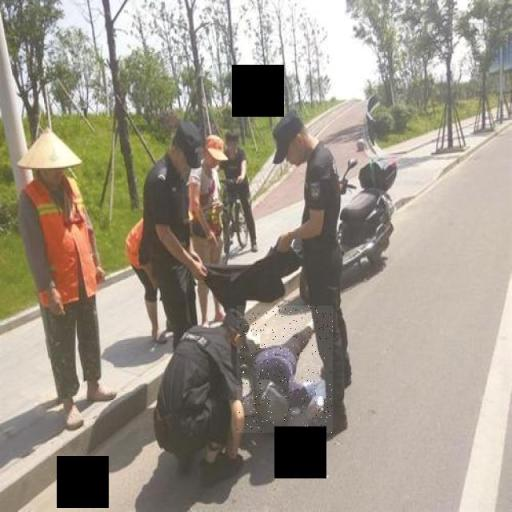Fall: (237, 306, 333, 433)
